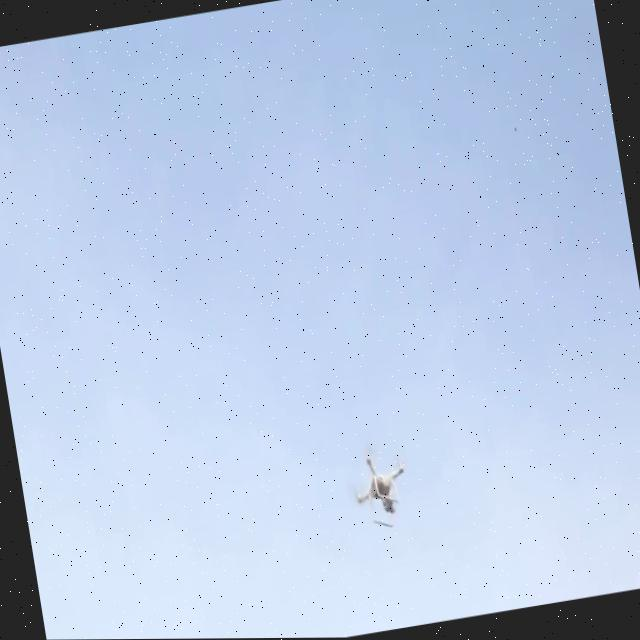drone: (333, 427, 432, 550)
